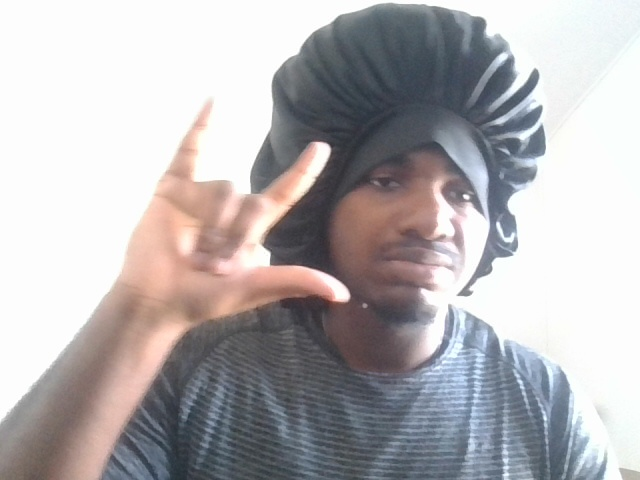I Love You: (83, 82, 350, 324)
